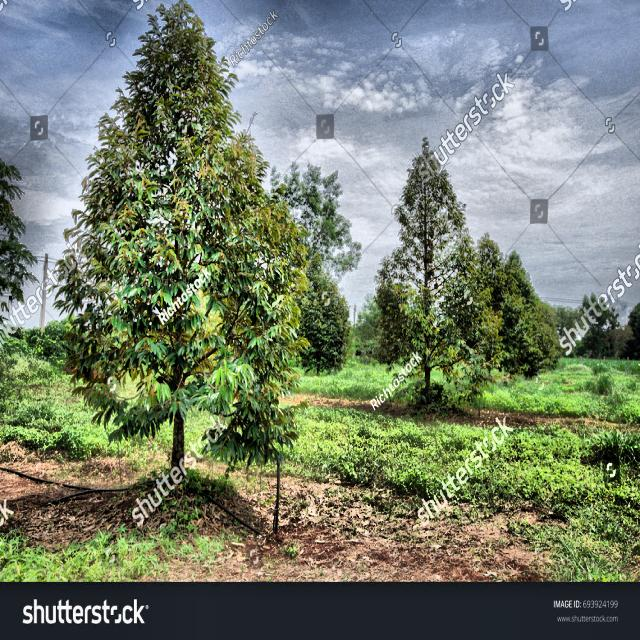arvore: (159, 184, 194, 491), (417, 219, 441, 429)
